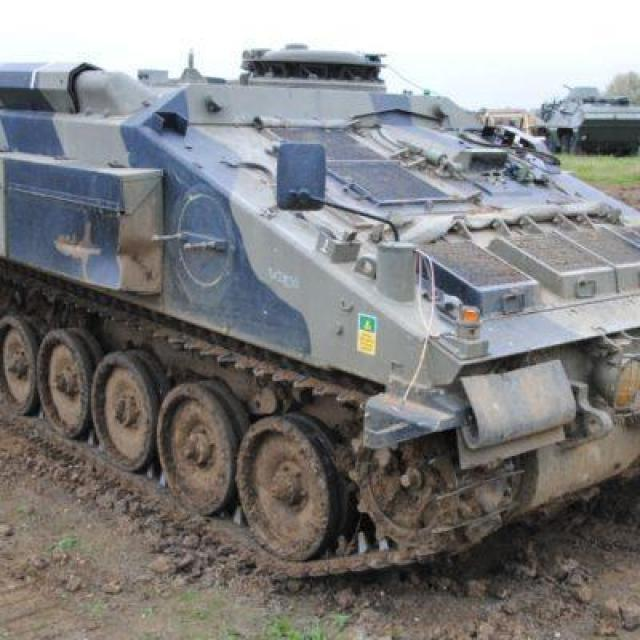Tanks: (4, 49, 628, 558)
